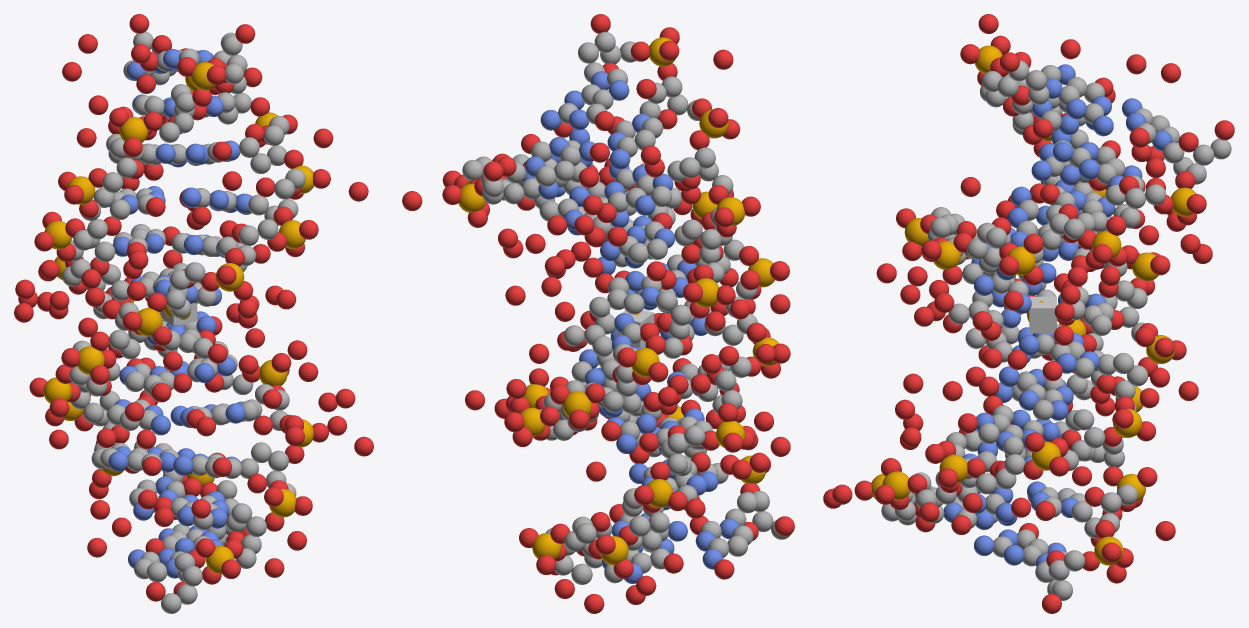
Rendered from 1bna.fbx.
3 views of the same model, side by side, from view 1: azimuth 30°, elevation 25°; view 2: azimuth 150°, elevation 25°; view 3: azimuth 270°, elevation 25° (orthographic). The views are drawn at different scales.
Visible parts, largest first — view 1: Phosphorus|Ball_Phosphorus|Dupli|6.0.0.0.0.0.0.0.0, Phosphorus|Ball_Phosphorus|Dupli|20.0.0.0.0.0.0.0.0, Phosphorus|Ball_Phosphorus|Dupli|5.0.0.0.0.0.0.0.0, Phosphorus|Ball_Phosphorus|Dupli|7.0.0.0.0.0.0.0.0, Phosphorus|Ball_Phosphorus|Dupli|3.0.0.0.0.0.0.0.0, Phosphorus|Ball_Phosphorus|Dupli|18.0.0.0.0.0.0.0.0, Phosphorus|Ball_Phosphorus|Dupli|11.0.0.0.0.0.0.0.0; view 2: Phosphorus|Ball_Phosphorus|Dupli|10.0.0.0.0.0.0.0.0, Phosphorus|Ball_Phosphorus|Dupli|0.0.0.0.0.0.0.0.0, Phosphorus|Ball_Phosphorus|Dupli|8.0.0.0.0.0.0.0.0, Phosphorus|Ball_Phosphorus|Dupli|17.0.0.0.0.0.0.0.0; view 3: Cube.
Part boxes in pixels (bbox=[...]): Phosphorus|Ball_Phosphorus|Dupli|6.0.0.0.0.0.0.0.0: bbox=[77, 346, 104, 374]; Phosphorus|Ball_Phosphorus|Dupli|20.0.0.0.0.0.0.0.0: bbox=[119, 117, 148, 142]; Phosphorus|Ball_Phosphorus|Dupli|5.0.0.0.0.0.0.0.0: bbox=[137, 308, 162, 336]; Phosphorus|Ball_Phosphorus|Dupli|7.0.0.0.0.0.0.0.0: bbox=[43, 377, 71, 403]; Phosphorus|Ball_Phosphorus|Dupli|3.0.0.0.0.0.0.0.0: bbox=[278, 220, 305, 248]; Phosphorus|Ball_Phosphorus|Dupli|18.0.0.0.0.0.0.0.0: bbox=[44, 221, 71, 249]; Phosphorus|Ball_Phosphorus|Dupli|11.0.0.0.0.0.0.0.0: bbox=[206, 546, 234, 574]; Phosphorus|Ball_Phosphorus|Dupli|10.0.0.0.0.0.0.0.0: bbox=[532, 533, 561, 559]; Phosphorus|Ball_Phosphorus|Dupli|0.0.0.0.0.0.0.0.0: bbox=[458, 183, 485, 212]; Phosphorus|Ball_Phosphorus|Dupli|8.0.0.0.0.0.0.0.0: bbox=[647, 479, 673, 507]; Phosphorus|Ball_Phosphorus|Dupli|17.0.0.0.0.0.0.0.0: bbox=[631, 348, 659, 377]; Cube: bbox=[1029, 296, 1056, 333].
Bounding box in the file's own units: 2733 × 4397 × 2990.
